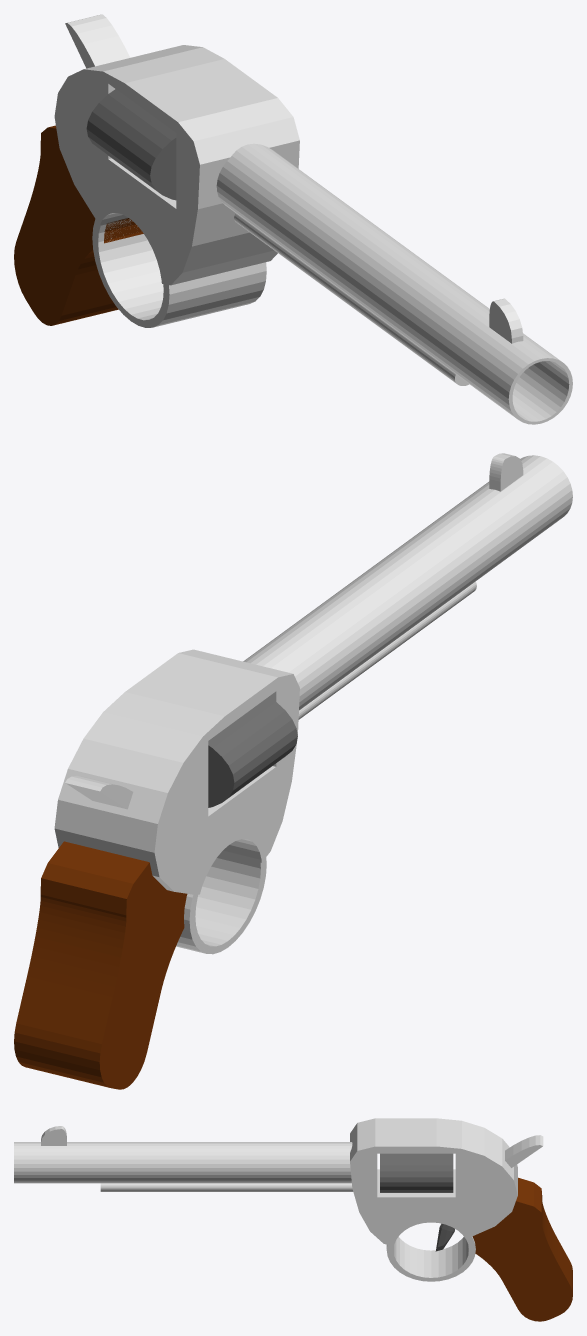
Rendered from Revolver.fbx.
3 renders of one model, top to bottom at view 1: azimuth 30°, elevation 25°; view 2: azimuth 150°, elevation 25°; view 3: azimuth 270°, elevation 25°, orthographic. The views are drawn at different scales.
Visible parts, largest first — view 1: Base, Canon, Poignee, Protection, Barillet, Cylindre, Viseur; view 2: Base, Poignee, Canon, Protection, Barillet, Cylindre, Viseur; view 3: Base, Canon, Poignee, Barillet, Protection, Cylindre, Viseur, Gachette.
Boxes of the visible parts, x1,y1,x2,y2 form: Base: [54, 14, 299, 285]; Canon: [216, 143, 572, 424]; Poignee: [14, 125, 143, 325]; Protection: [92, 218, 266, 327]; Barillet: [86, 89, 176, 200]; Cylindre: [234, 213, 469, 385]; Viseur: [489, 298, 523, 343]; Base: [54, 649, 299, 894]; Poignee: [14, 841, 187, 1089]; Canon: [243, 455, 572, 710]; Protection: [176, 839, 266, 954]; Barillet: [208, 697, 297, 807]; Cylindre: [298, 581, 476, 719]; Viseur: [489, 453, 523, 491]; Base: [350, 1118, 543, 1246]; Canon: [14, 1142, 352, 1183]; Poignee: [472, 1177, 572, 1321]; Barillet: [380, 1153, 453, 1192]; Protection: [386, 1236, 475, 1281]; Cylindre: [100, 1183, 353, 1191]; Viseur: [41, 1126, 66, 1145]; Gachette: [435, 1223, 454, 1251].
Bounding box in the file's own units: 73.92 × 151 × 419.
